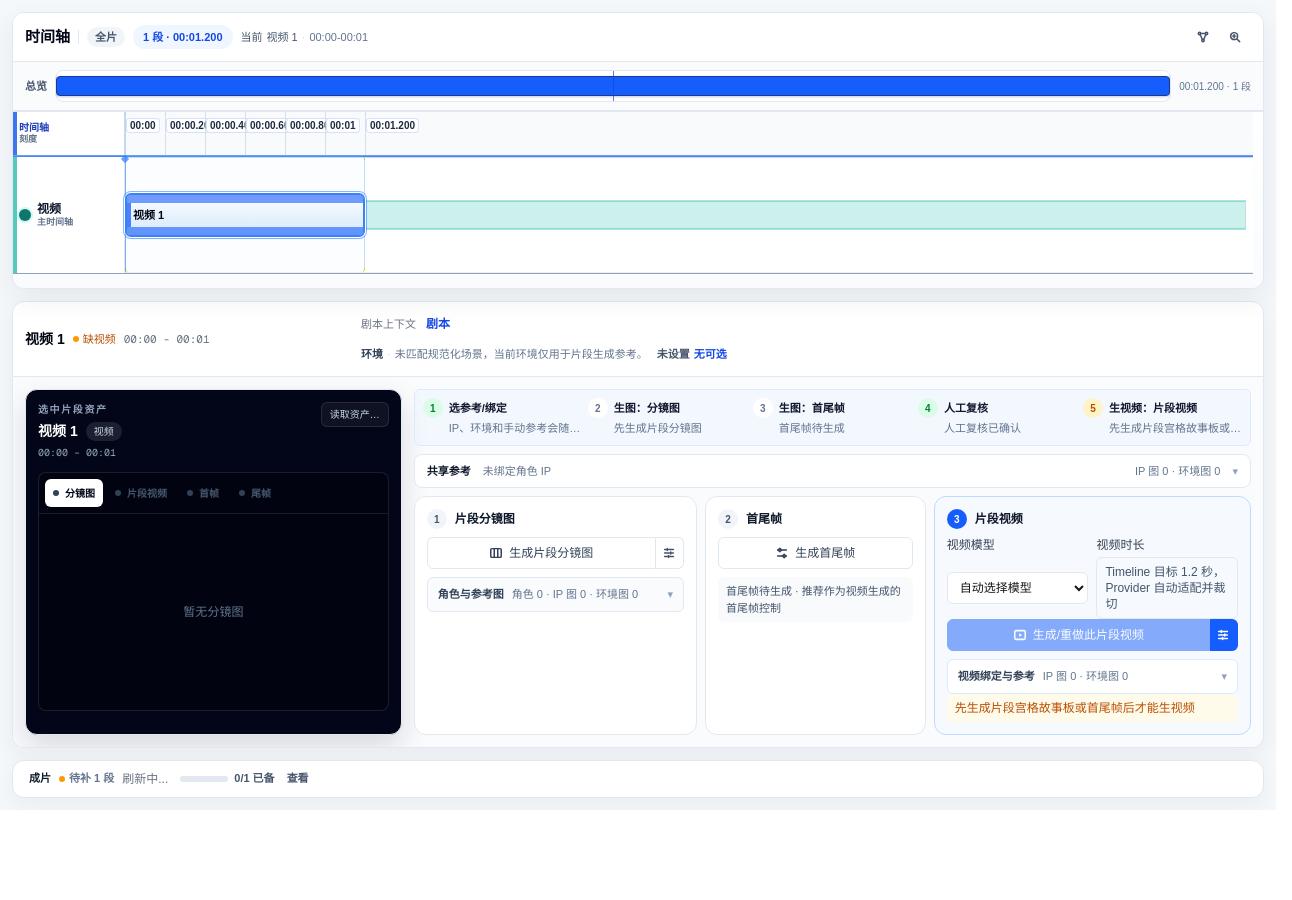
Test: EpisodeTimelineWorkspace layout › keeps missing render actions collapsed until clips are ready
This screenshot has width=1292, height=900.
Expected: the text "待补 1 段" is shown, [59,770,114,787]
Expected: the element showing "成片 待补 1 段 刷新中..." is shown, [29,770,168,787]
Click the heading "成片 待补 1 段 刷新中... 0/1 已备 查看" at (168, 785), box [28,772,309,798]
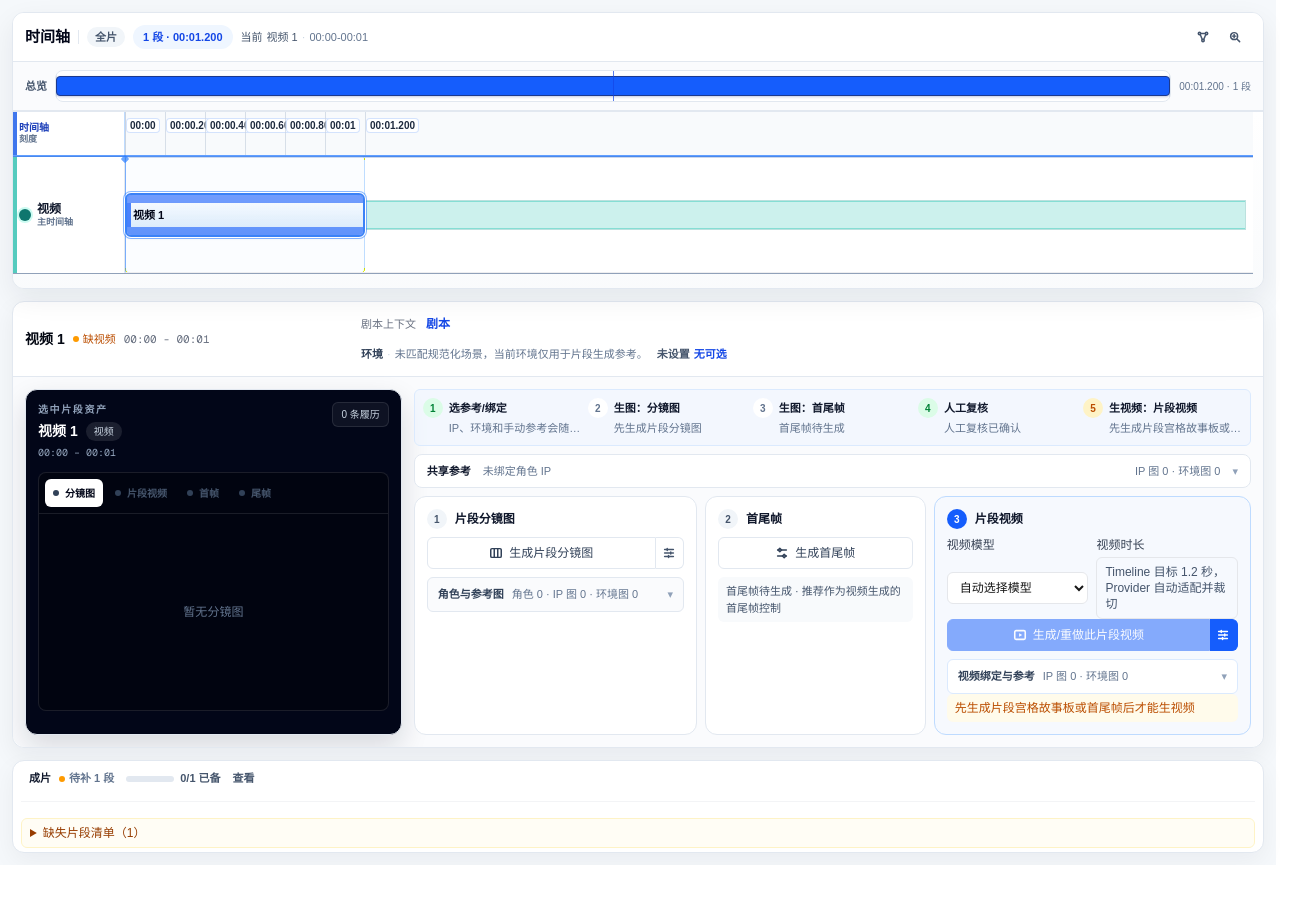
Now the heading "缺失片段清单（1）" is shown, box [43,826,145,840]
